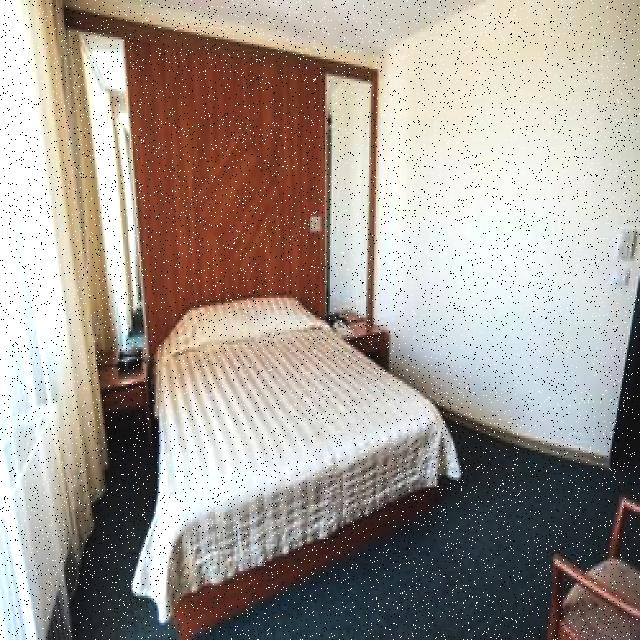bed: (140, 293, 447, 582)
